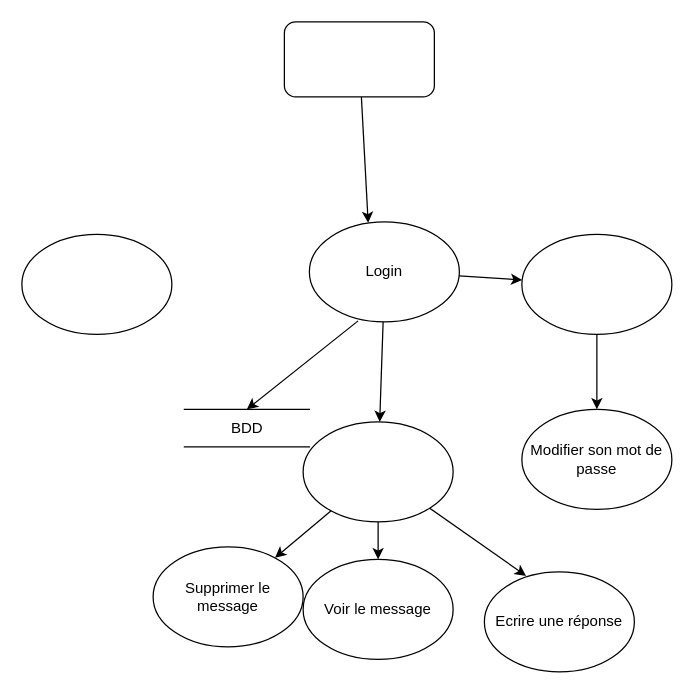
Image size: 694x694. Some labels were removed from this diagram. The shapes that lost their labels are listed below. From the top down, each one's centre as x and y in pixels, then its label:
At point (358, 59): "User".
At point (596, 283): "Voir son profil".
At point (377, 471): "Consulter sa boite mail (inbox)".
